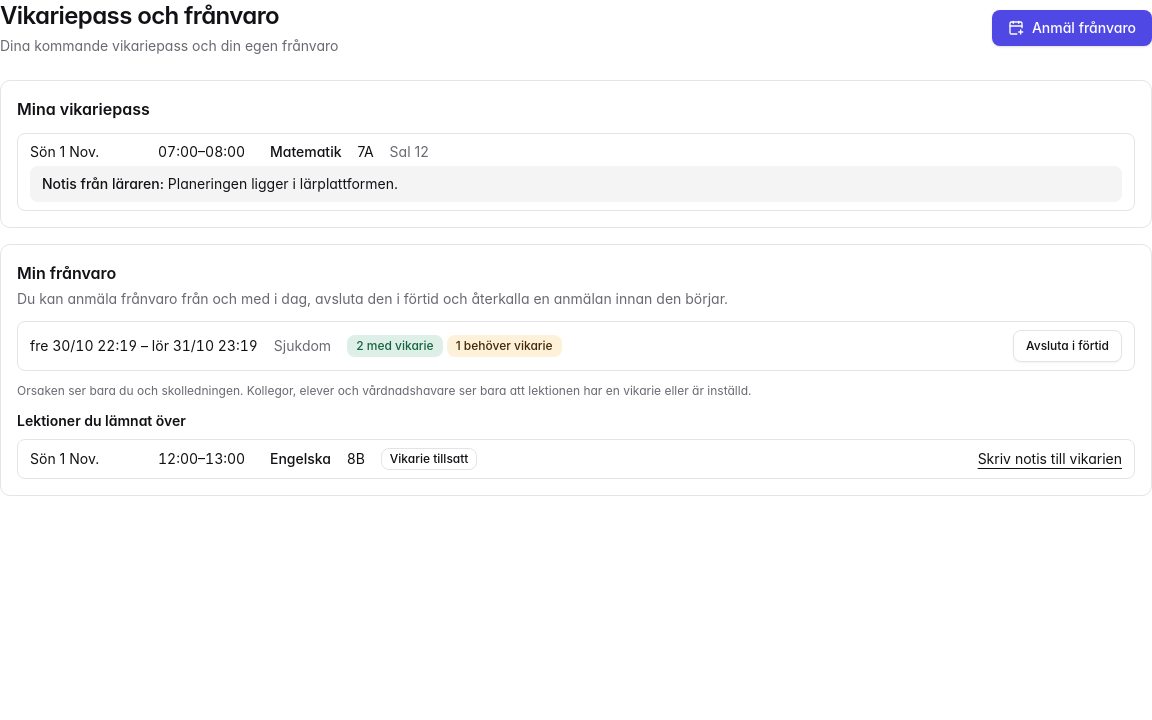
Test: /teacher/franvaro › offers report and end early when the school allows it, and the report form starts today
Expected: the button "Avsluta i förtid" is shown, [1013,330,1122,362]
Click the button "Anmäl frånvaro".
click(1072, 28)  # box [992,10,1151,46]
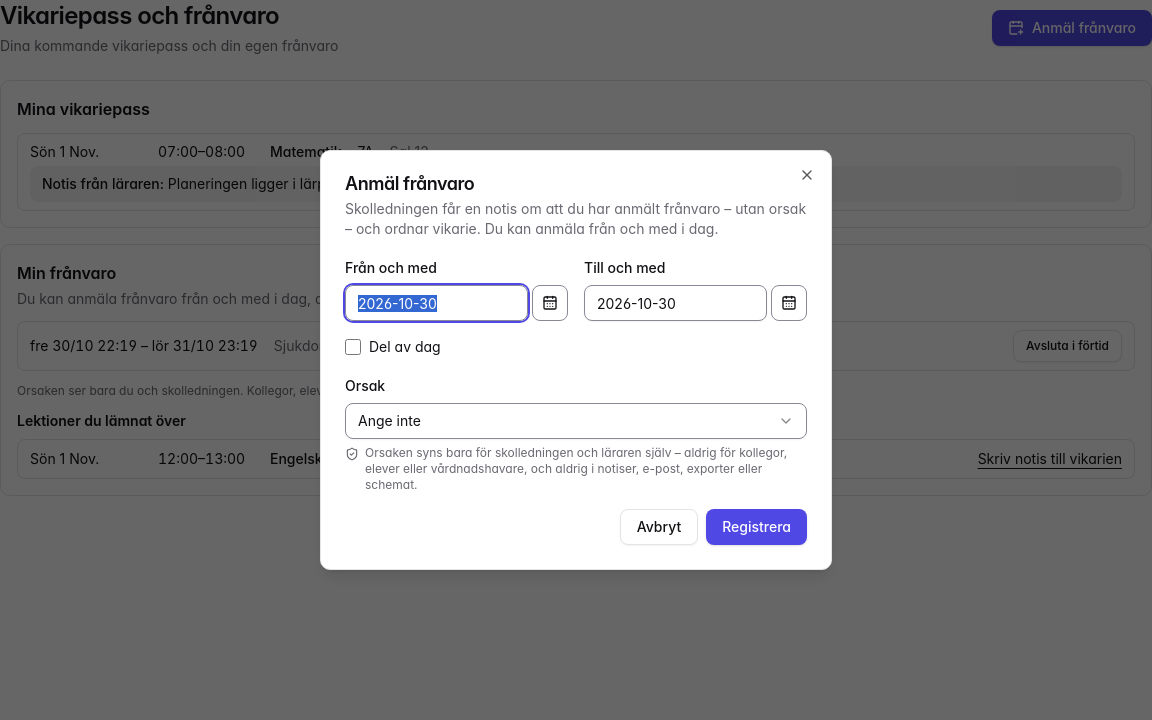
Result: the text "utan orsak" is shown at [345,200,806,237]
